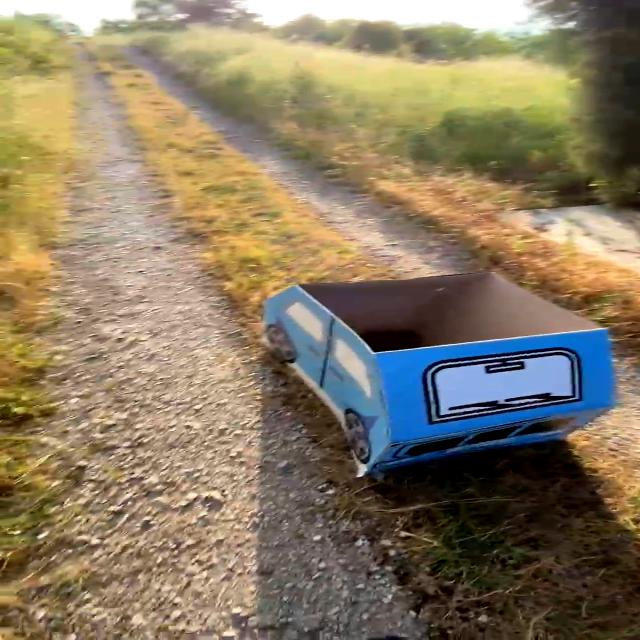blue_car: (192, 263, 640, 479)
